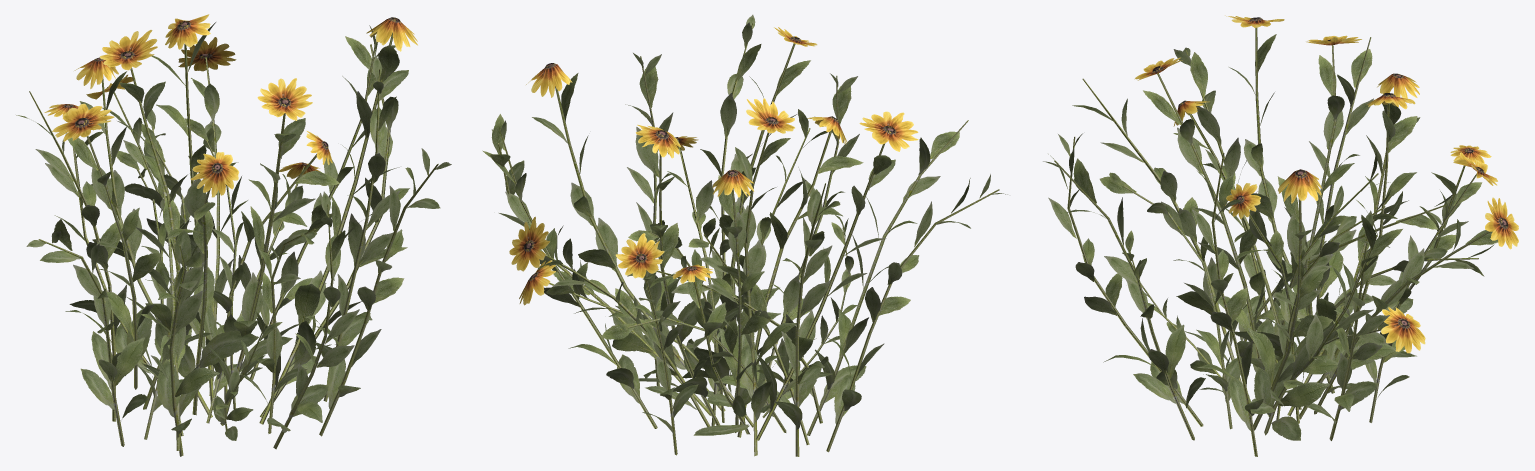
File: sm_DaisyFlowers_01_05.fbx
3 renders of one model, left to right at view 1: azimuth 30°, elevation 25°; view 2: azimuth 150°, elevation 25°; view 3: azimuth 270°, elevation 25°, orthographic. The views are drawn at different scales.
Parts seen in each view (by area): view 1: sm_DaisyFlowers_01_05; view 2: sm_DaisyFlowers_01_05; view 3: sm_DaisyFlowers_01_05.
Boxes of the visible parts, x1,y1,x2,y2 form: sm_DaisyFlowers_01_05: (16,14,451,456); sm_DaisyFlowers_01_05: (482,14,1007,456); sm_DaisyFlowers_01_05: (1043,15,1518,456).
Size of the model in its own units: 63.58 by 59.56 by 50.79.
